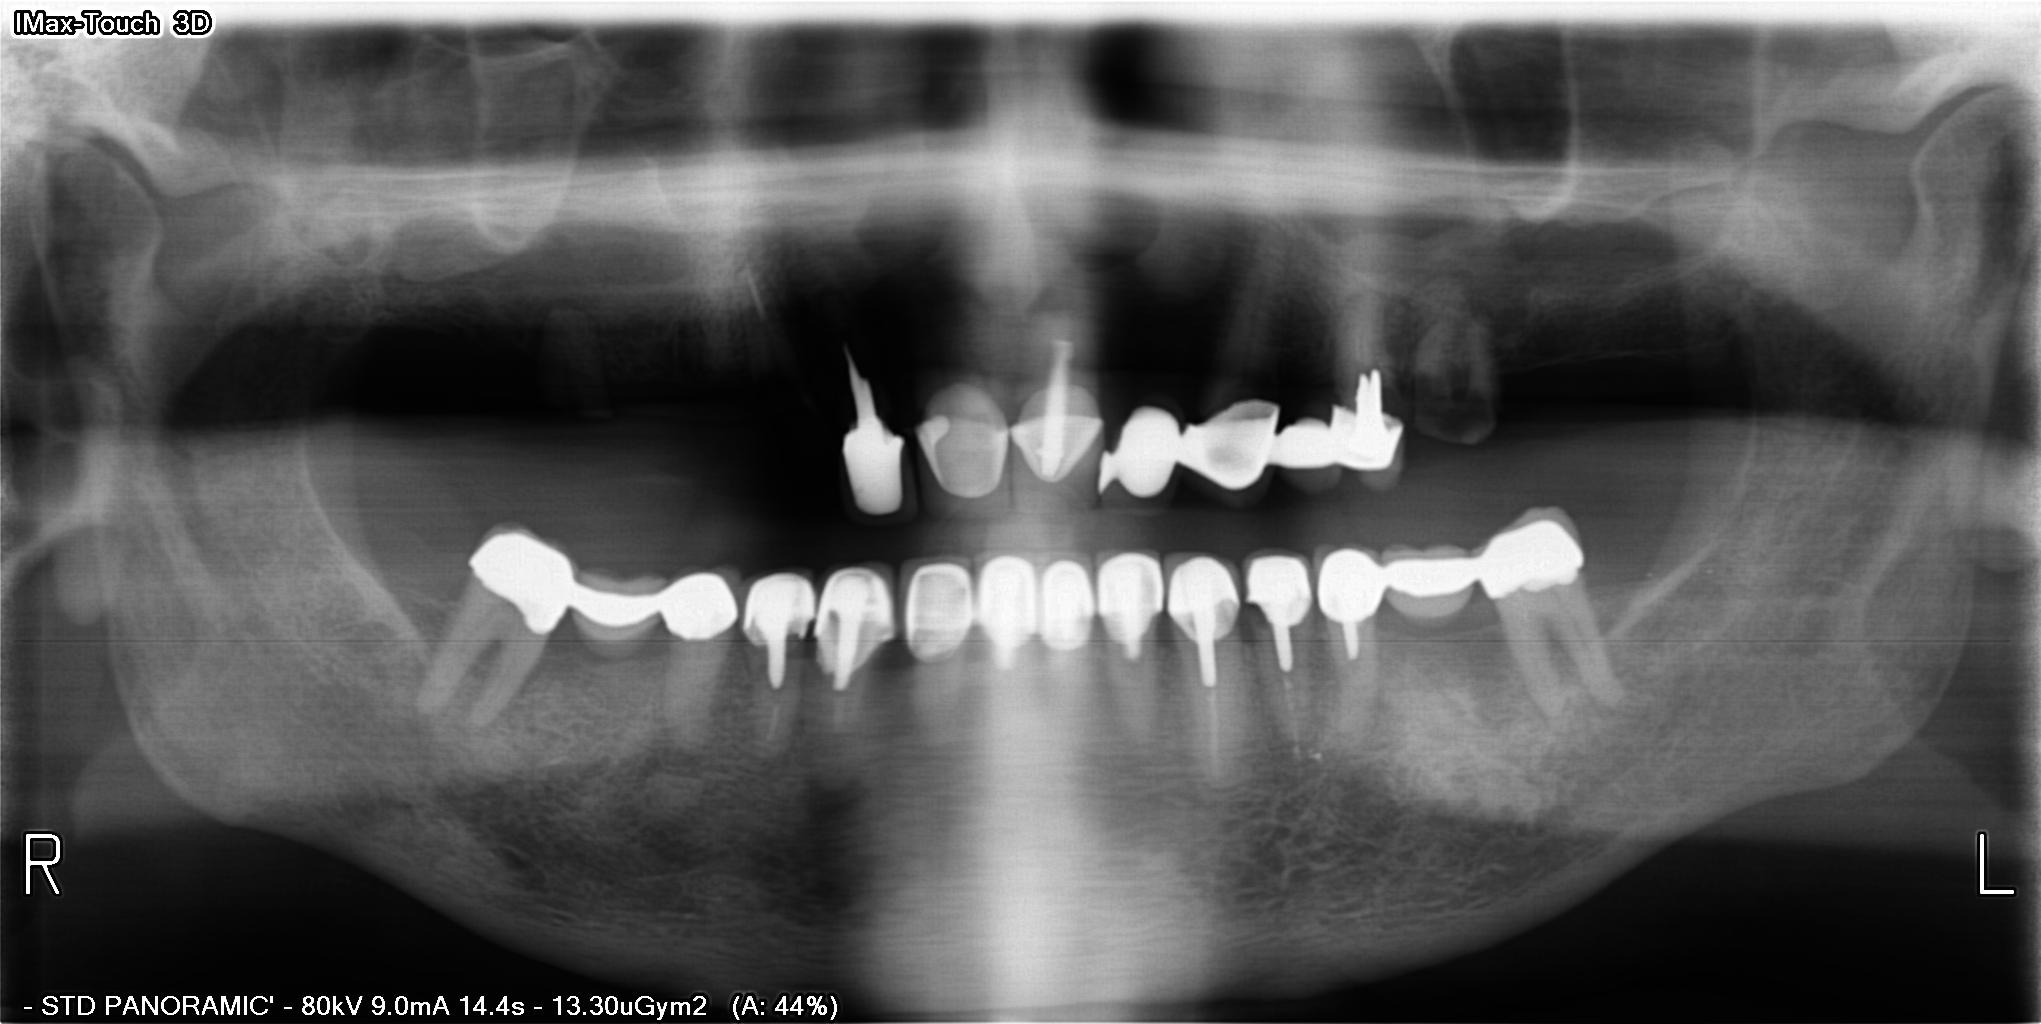Çürük: (462, 520, 575, 640), (1002, 387, 1110, 499), (1482, 494, 1577, 611), (816, 562, 904, 674), (922, 391, 1007, 502), (833, 418, 917, 529), (736, 563, 827, 660), (1084, 534, 1160, 635), (1166, 543, 1246, 639), (649, 568, 734, 652), (1237, 539, 1311, 626), (1332, 391, 1399, 485), (1312, 546, 1380, 630)
